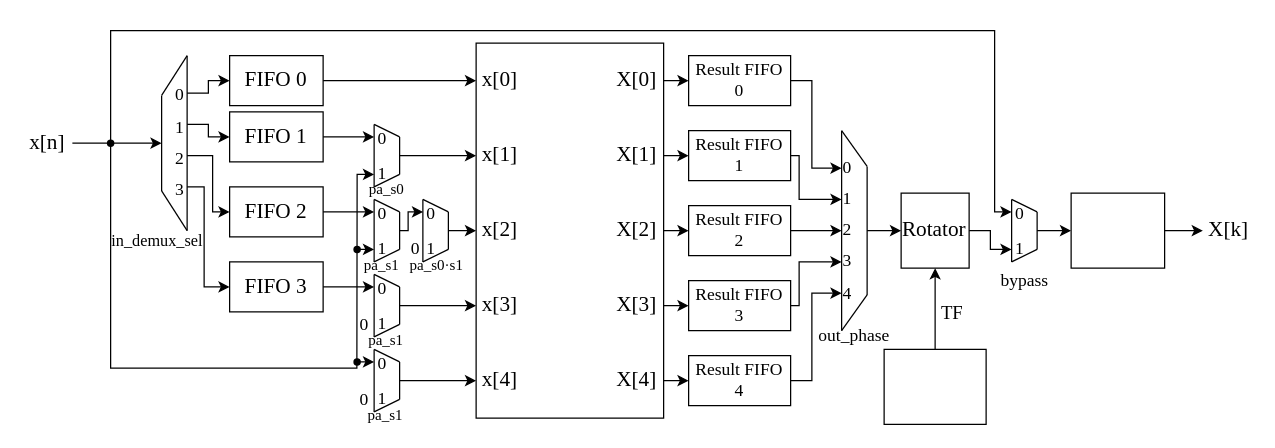
Some shapes in this 1275 by 448 pixel diagram are drawn without their labels. Here are the shapes that lost their labels. From the top down, the box of each, then its label:
(475, 42, 664, 418): Preadder radix-2/3/5
(1070, 192, 1165, 268): Skid FIFO
(883, 348, 986, 424): Twiddle Factor Unit
